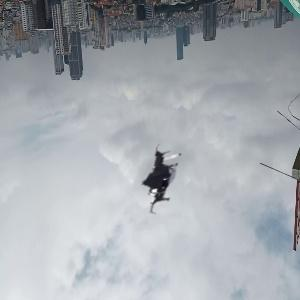drone: (121, 139, 201, 219)
